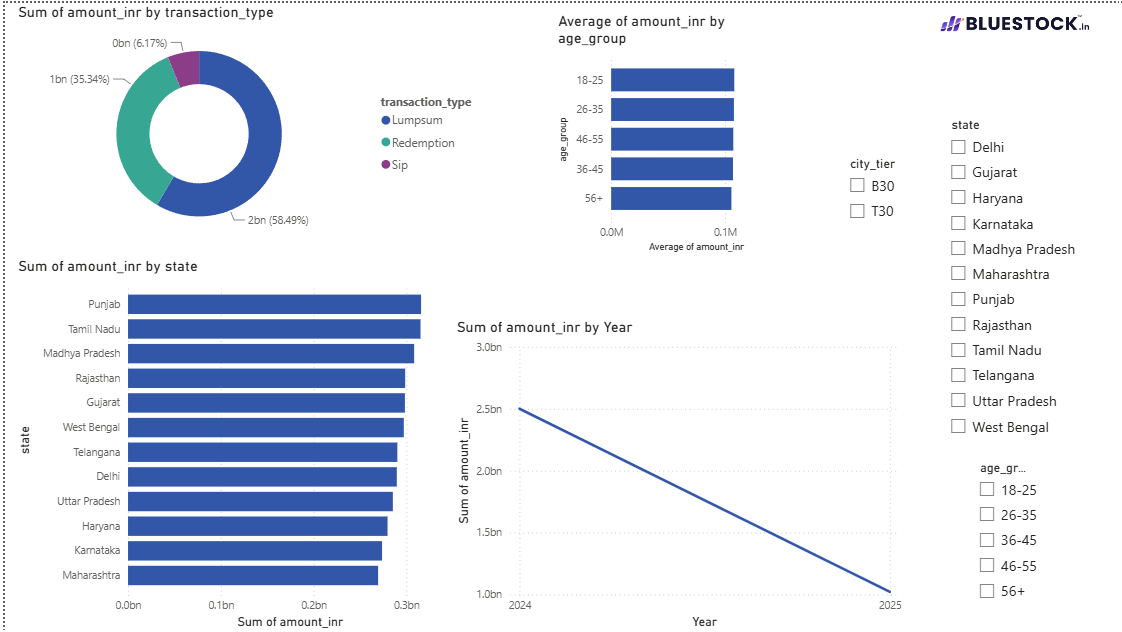

The page's visual inventory and layout, read from the dashboard file:
{"tool":"powerbi","page":{"name":"Page 3","canvas":[1280,720],"ordinal":2},"visuals":[{"type":"donutChart","fields":{"Category":["08_investor_transactions.transaction_type"],"Y":["Sum(08_investor_transactions.amount_inr)"]},"box":[10,0,543,280],"z":0},{"type":"clusteredBarChart","fields":{"Category":["08_investor_transactions.state"],"Y":["Sum(08_investor_transactions.amount_inr)"]},"box":[10,290,522,430],"z":1},{"type":"clusteredBarChart","fields":{"Category":["08_investor_transactions.age_group"],"Y":["Avg(08_investor_transactions.amount_inr)"]},"box":[627,10,280,280],"z":2},{"type":"lineChart","fields":{"Category":["08_investor_transactions.transaction_date.Variation.Date Hierarchy.Year","08_investor_transactions.transaction_date.Variation.Date Hierarchy.Quarter","08_investor_transactions.transaction_date.Variation.Date Hierarchy.Month","08_investor_transactions.transaction_date.Variation.Date Hierarchy.Day"],"Y":["Sum(08_investor_transactions.amount_inr)"]},"box":[512,360,518,360],"z":3},{"type":"slicer","fields":{"Values":["08_investor_transactions.state"]},"box":[1069,125,172,380],"z":4},{"type":"slicer","fields":{"Values":["08_investor_transactions.age_group"]},"box":[1102,517,90,176],"z":5},{"type":"slicer","fields":{"Values":["08_investor_transactions.city_tier"]},"box":[953,170,101,95],"z":6},{"type":"image","box":[1069,0,172,46],"z":7}]}

Visuals, with their boxes in screenshot pixels (x1, y1, x2, y2), scaled from the page's 1280x720 canvas onto the 1122x632 screenshot:
donutChart - 08_investor_transactions.transaction_type x Sum(08_investor_transactions.amount_inr): bbox=[9, 0, 485, 246]
clusteredBarChart - 08_investor_transactions.state x Sum(08_investor_transactions.amount_inr): bbox=[9, 255, 466, 631]
clusteredBarChart - 08_investor_transactions.age_group x Avg(08_investor_transactions.amount_inr): bbox=[550, 9, 795, 255]
lineChart - 08_investor_transactions.transaction_date.Variation.Date Hierarchy.Year x 08_investor_transactions.transaction_date.Variation.Date Hierarchy.Quarter: bbox=[449, 316, 903, 631]
slicer - 08_investor_transactions.state: bbox=[937, 110, 1088, 443]
slicer - 08_investor_transactions.age_group: bbox=[966, 454, 1045, 608]
slicer - 08_investor_transactions.city_tier: bbox=[835, 149, 924, 233]
image: bbox=[937, 0, 1088, 40]
